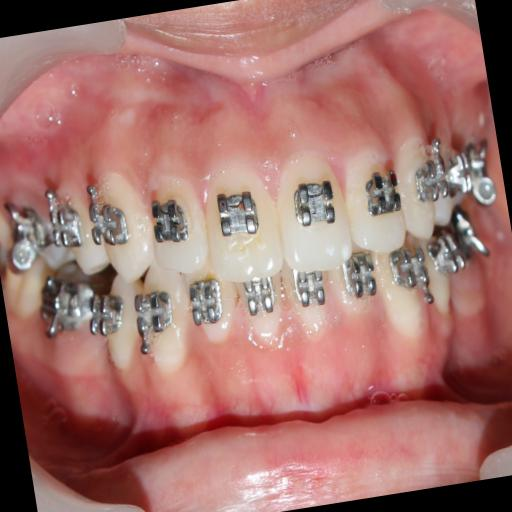correct_brace: (208, 179, 267, 244), (286, 173, 342, 230), (144, 190, 194, 252), (355, 164, 404, 223)
incorrect_brace: (334, 138, 413, 262), (139, 162, 211, 280)
